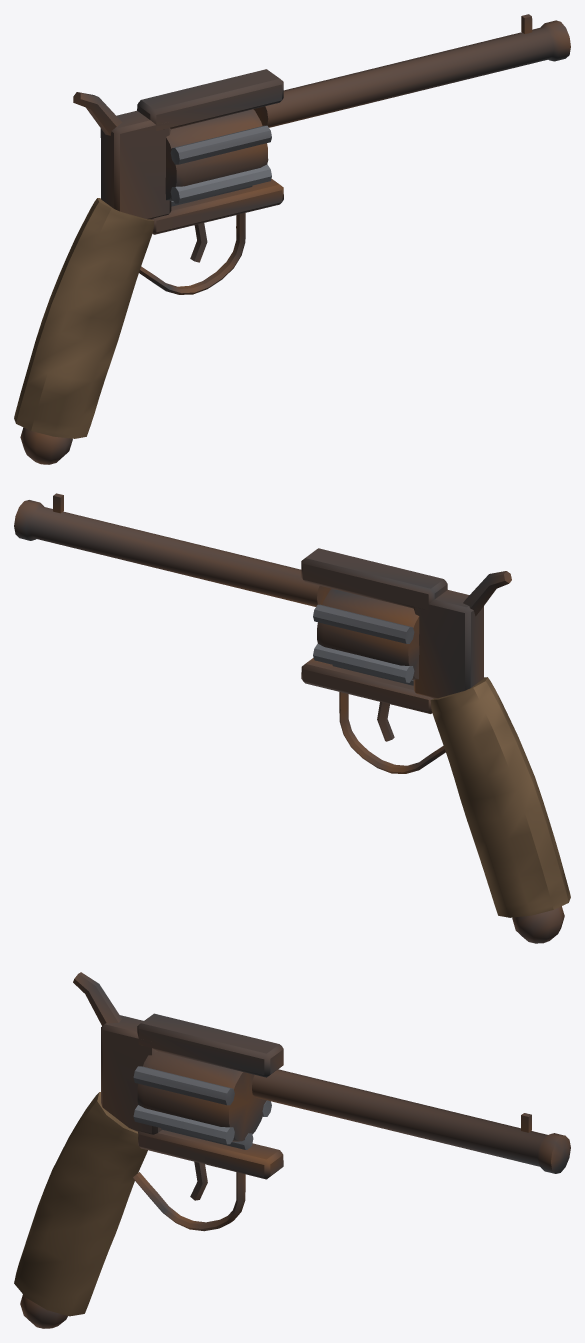
The model's file is revolver.glb.
The picture shows the model from 3 angles, top to bottom: view 1: azimuth 30°, elevation 25°; view 2: azimuth 150°, elevation 25°; view 3: azimuth 330°, elevation 25°; orthographic projection.
Parts seen in each view (by area): view 1: revolver; view 2: revolver; view 3: revolver.
Boxes of the visible parts, x1=… form: revolver: x1=14, y1=14, x2=570, y2=464; revolver: x1=14, y1=493, x2=570, y2=943; revolver: x1=14, y1=972, x2=570, y2=1328.
Bounding box in the file's own units: 0.2881 × 0.1815 × 0.0422.
